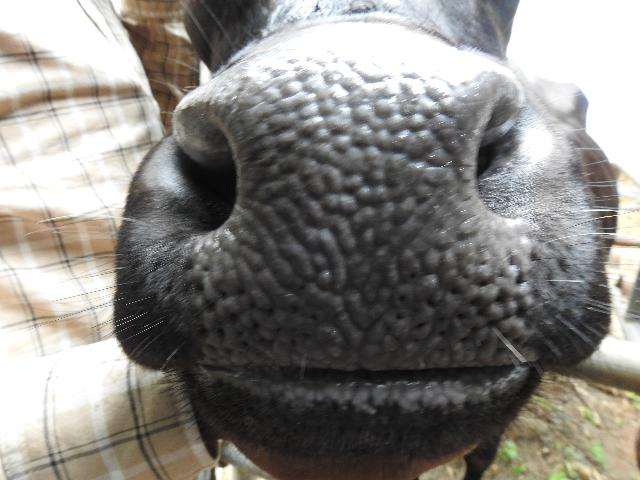Muzzle: (235, 66, 460, 362)
